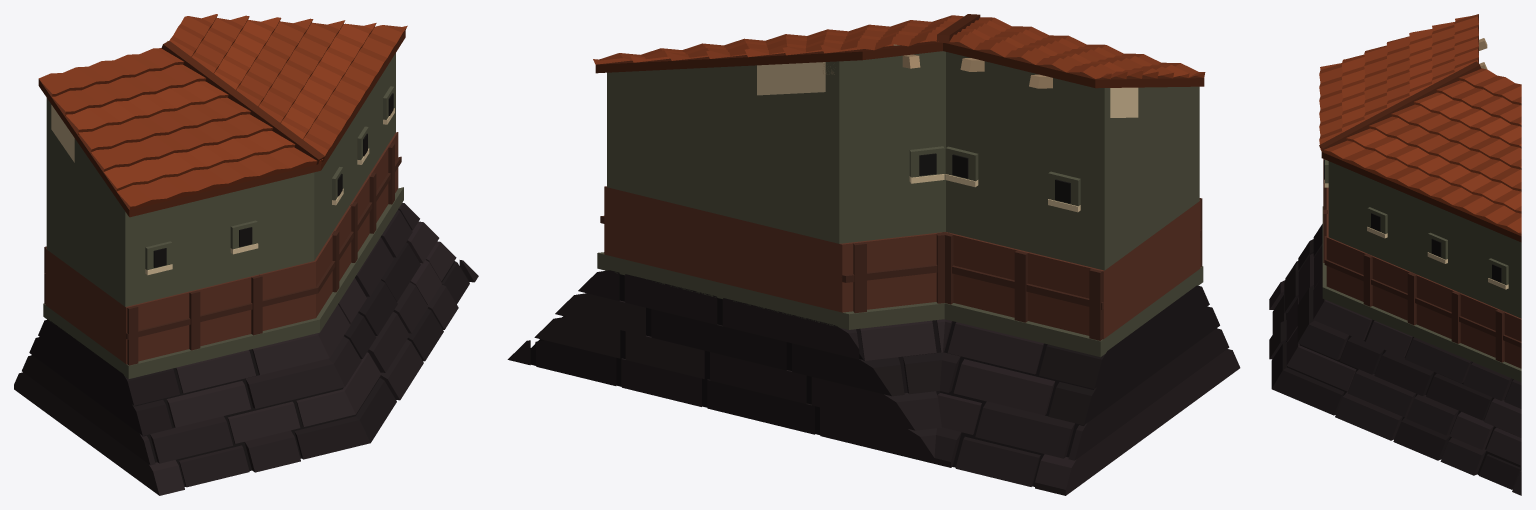
File: VerJoint11.glb
3 renders of one model, left to right at view 1: azimuth 30°, elevation 25°; view 2: azimuth 150°, elevation 25°; view 3: azimuth 270°, elevation 25°, orthographic. The views are drawn at different scales.
Parts seen in each view (by area): view 1: VerJoint11_mortar; view 2: VerJoint11_mortar; view 3: VerJoint11_mortar.
Boxes of the visible parts, <box> form: VerJoint11_mortar: <box>14,14,478,495</box>; VerJoint11_mortar: <box>507,14,1240,495</box>; VerJoint11_mortar: <box>1269,14,1521,495</box>.
Bounding box in the file's own units: 8.16 × 5.61 × 4.43.
